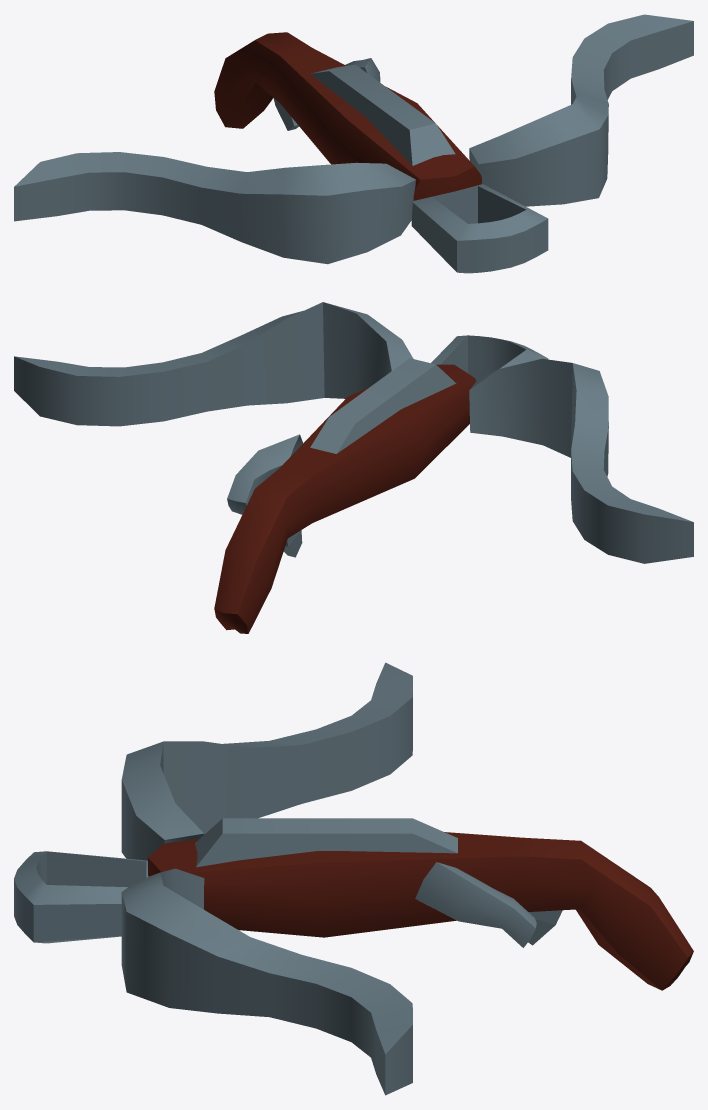
File: crossbow_uncommon.obj
3 views of the same model, one above another, from view 1: azimuth 30°, elevation 25°; view 2: azimuth 150°, elevation 25°; view 3: azimuth 270°, elevation 25° (orthographic). The views are drawn at different scales.
Parts seen in each view (by area): view 1: crossbow_uncommon_Cube.1800; view 2: crossbow_uncommon_Cube.1800; view 3: crossbow_uncommon_Cube.1800.
Boxes of the visible parts, bbox=[...] form: crossbow_uncommon_Cube.1800: bbox=[14, 14, 693, 273]; crossbow_uncommon_Cube.1800: bbox=[14, 302, 693, 633]; crossbow_uncommon_Cube.1800: bbox=[14, 662, 693, 1095].
Size of the model in its own units: 1.04 by 0.2098 by 0.7584.
